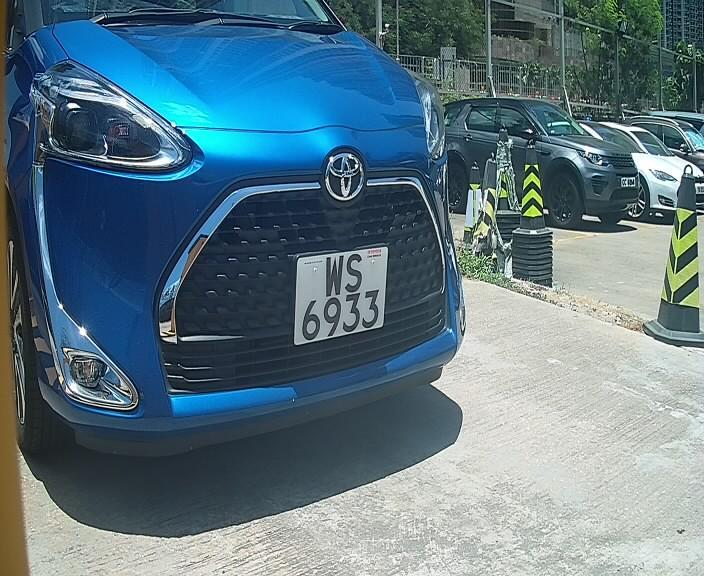privatecar: (1, 16, 519, 489)
